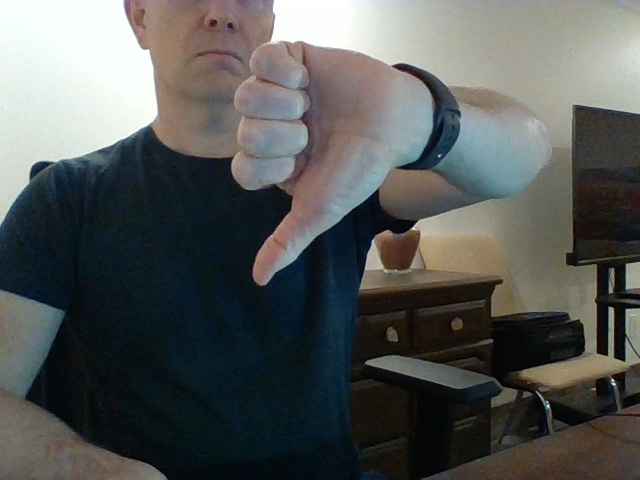ThumbsDown: (230, 40, 388, 286)
